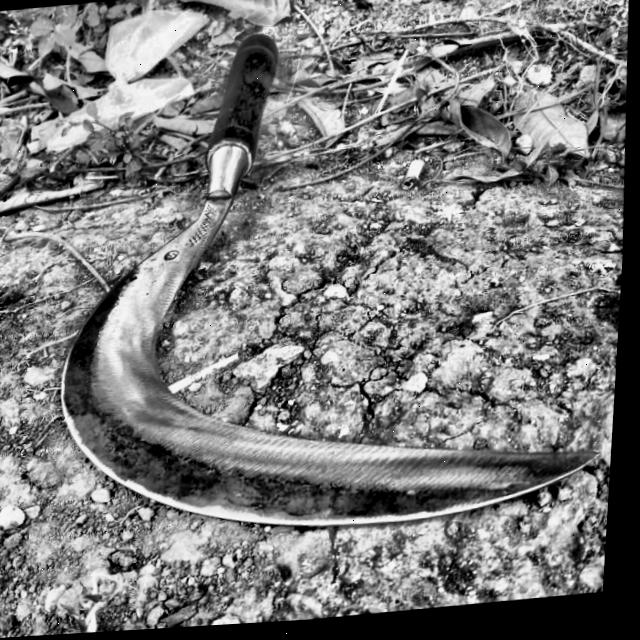celurit: (45, 28, 612, 538)
